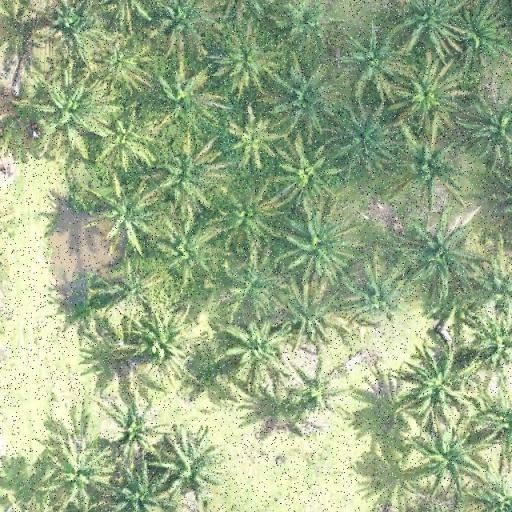Ganoderma: (297, 371, 334, 409), (236, 120, 274, 156), (100, 44, 138, 76)
